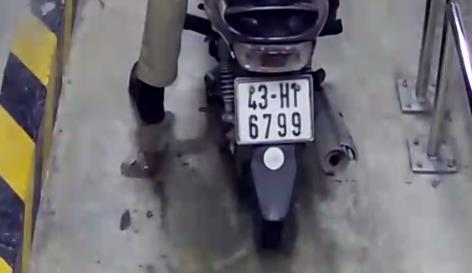lisence: (235, 75, 318, 144)
